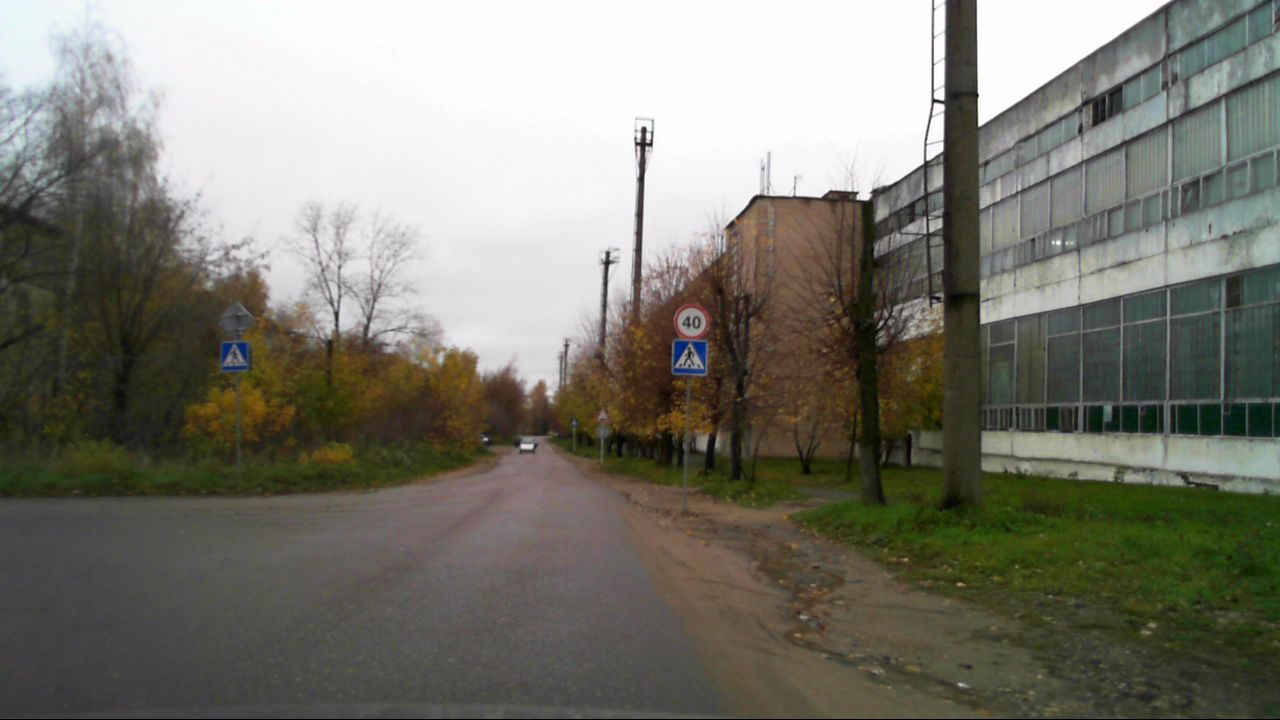speed_warning_40: (673, 302, 711, 340)
